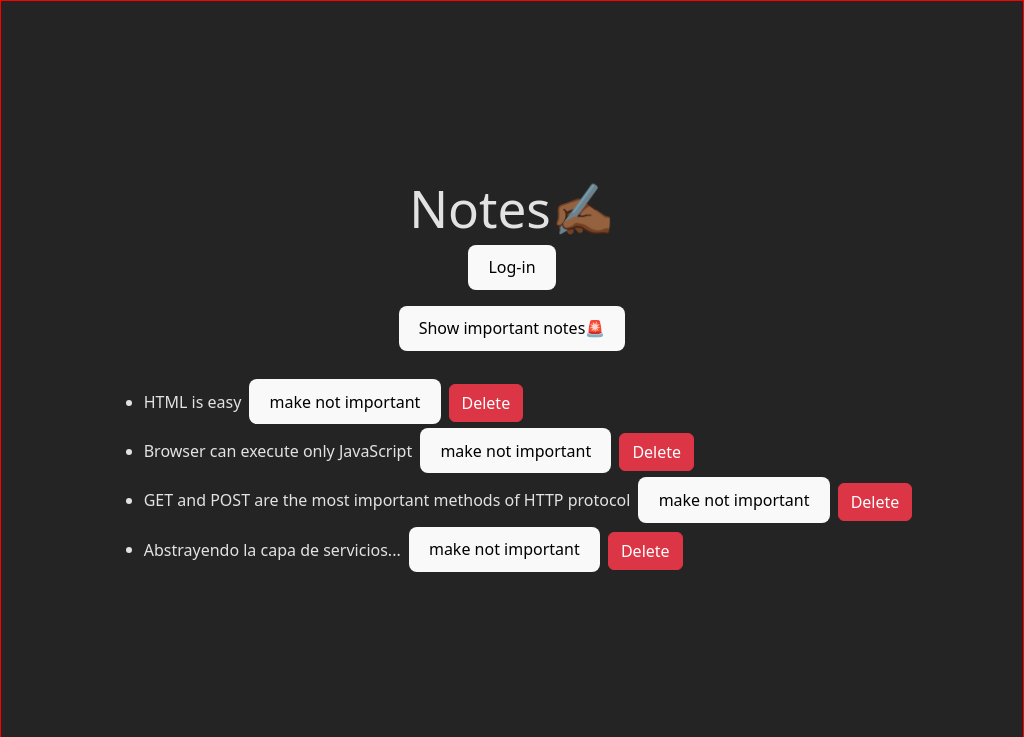
Test: Note app › login fails with wrong password
This screenshot has width=1024, height=737.
Click the button "Log-in" at (512, 268), box [468,245,556,290]
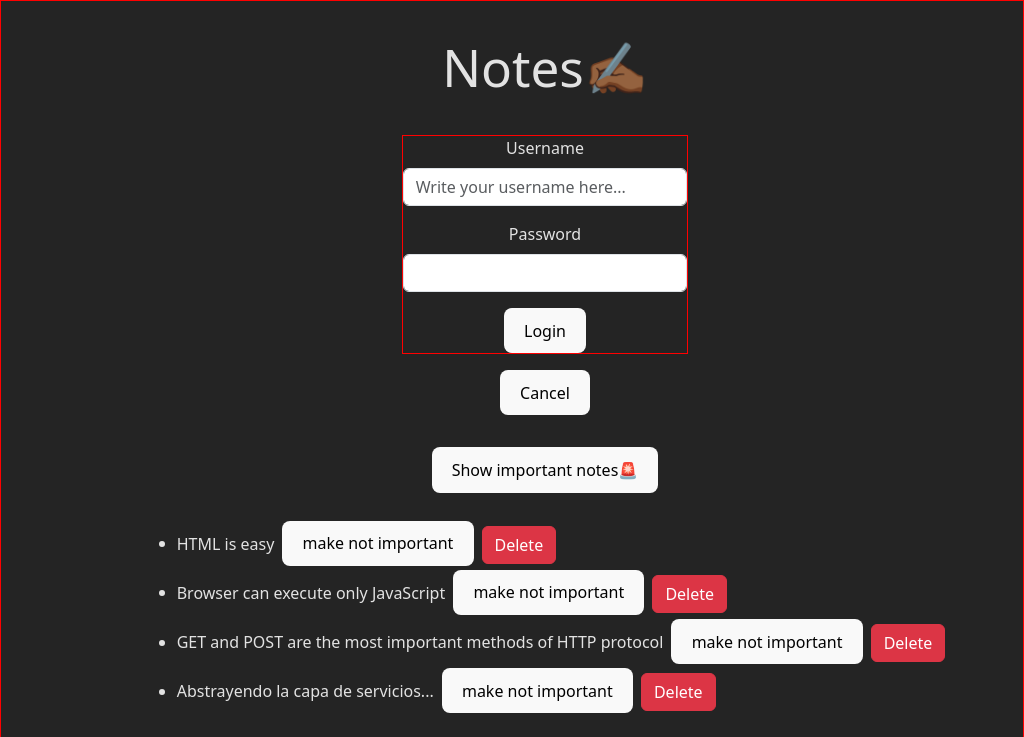
Type "Programmer" into the field with id "username" at (546, 187), box [403,168,688,206]
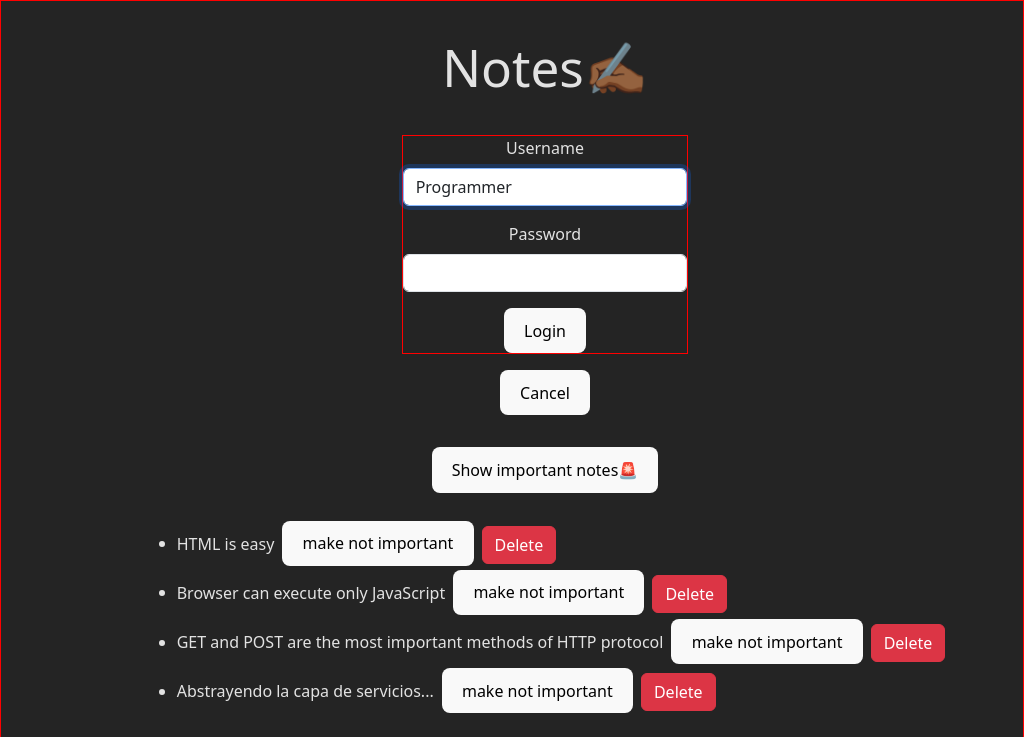
Type "wrongPassword" into the password field with id "inputPassword" at (546, 273), box [403,254,688,292]
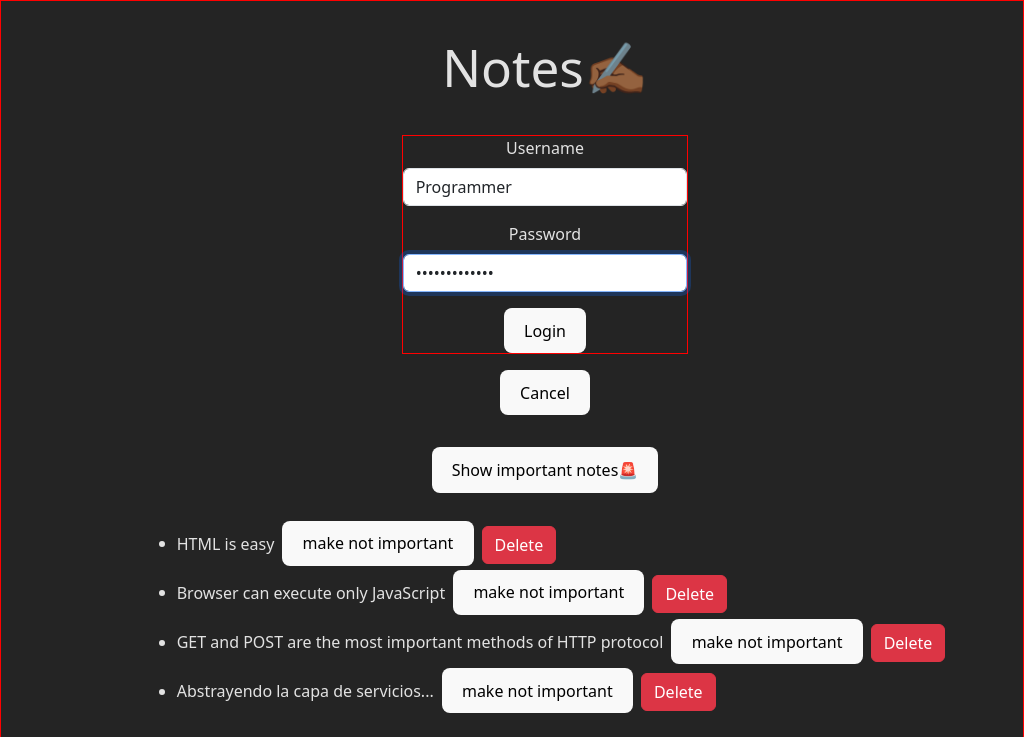
Click the button with id "loginBtn" at (545, 331), box [504,308,586,353]
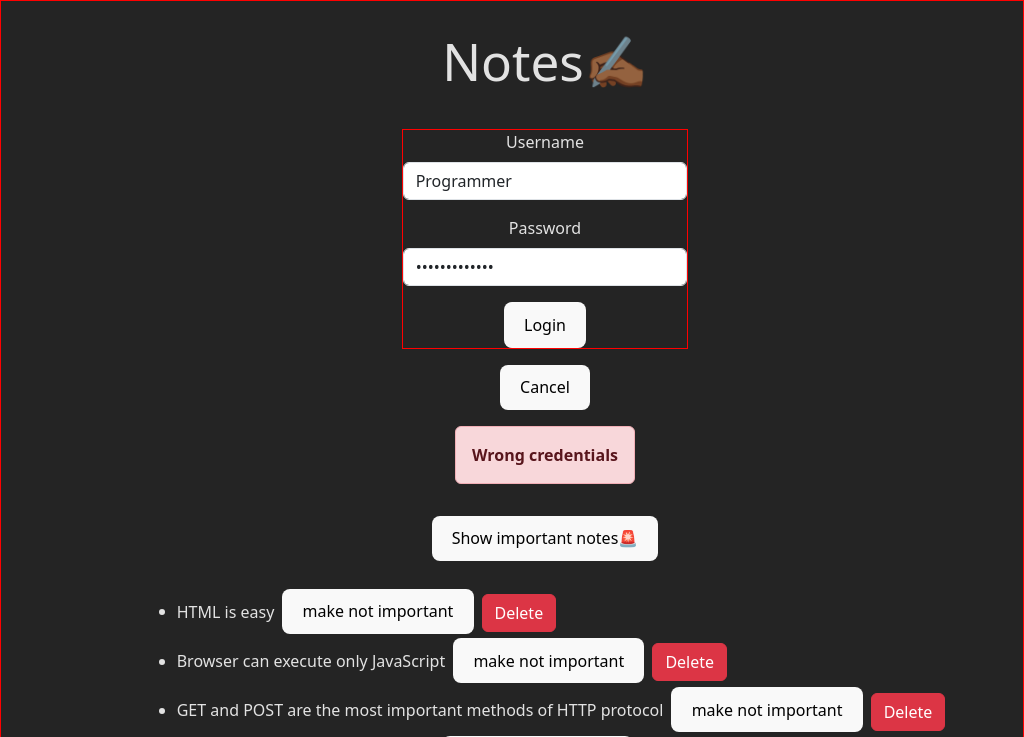
Check: the text with id "container-error" reads "Wrong credentials", box [472,444,618,466]
